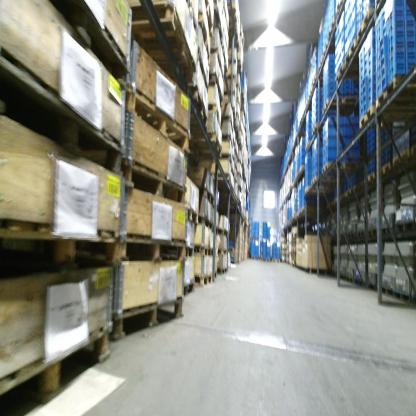pallet: (5, 50, 124, 177), (1, 323, 113, 413), (1, 216, 120, 278), (54, 2, 132, 91), (124, 4, 195, 78), (122, 81, 192, 156), (114, 294, 185, 344), (122, 157, 186, 209), (120, 234, 185, 260), (357, 101, 412, 131), (375, 73, 416, 111), (177, 80, 205, 133), (192, 10, 214, 61), (353, 8, 378, 43), (189, 133, 222, 159), (322, 159, 362, 180), (321, 94, 358, 116), (209, 69, 227, 107), (344, 41, 371, 65), (334, 62, 362, 83), (191, 181, 214, 206), (200, 104, 222, 128), (179, 279, 195, 311), (195, 53, 209, 89), (310, 174, 345, 187), (391, 150, 410, 172), (212, 170, 231, 191), (379, 222, 399, 239), (393, 216, 414, 232), (203, 1, 212, 36), (184, 204, 199, 225), (303, 186, 330, 197), (195, 218, 214, 233), (194, 274, 214, 288), (192, 245, 213, 257), (364, 170, 376, 190), (378, 163, 391, 181), (364, 228, 379, 243), (395, 290, 409, 305), (364, 278, 377, 294), (329, 18, 339, 38), (316, 57, 327, 75), (354, 227, 366, 243), (379, 284, 394, 296), (333, 231, 347, 243), (184, 245, 195, 260), (323, 41, 335, 54), (353, 276, 365, 289), (312, 121, 323, 135), (230, 105, 237, 126), (346, 184, 355, 200), (301, 207, 319, 215), (334, 194, 345, 207), (215, 268, 230, 277), (334, 271, 344, 284), (336, 0, 344, 16), (216, 223, 225, 237), (235, 137, 244, 149), (304, 139, 312, 152), (215, 247, 228, 255), (355, 183, 364, 194), (344, 276, 355, 285), (237, 59, 242, 76), (299, 165, 306, 176), (347, 231, 355, 240), (410, 297, 415, 311), (272, 258, 280, 264), (261, 257, 270, 262), (296, 211, 301, 220), (234, 128, 239, 136), (250, 257, 259, 261), (231, 186, 234, 196), (291, 247, 297, 252), (290, 251, 297, 255), (291, 243, 297, 247), (291, 240, 297, 244), (290, 257, 296, 261), (291, 236, 296, 240), (290, 254, 296, 256)
small_load_carrier: (386, 1, 404, 22), (324, 125, 344, 143), (386, 12, 404, 31), (388, 54, 405, 73), (325, 134, 342, 153), (388, 35, 405, 53), (326, 146, 343, 163), (387, 68, 406, 83), (386, 23, 403, 39), (388, 45, 403, 63), (325, 116, 343, 131), (365, 54, 376, 76), (377, 78, 391, 95), (342, 126, 361, 138), (342, 136, 359, 149), (344, 146, 359, 160), (364, 46, 377, 62), (378, 32, 387, 52), (376, 55, 386, 73), (378, 46, 389, 62), (377, 21, 386, 40), (327, 90, 342, 101), (343, 116, 359, 126), (378, 67, 388, 82), (365, 65, 375, 80), (377, 12, 385, 30), (367, 81, 376, 97), (367, 91, 377, 105), (365, 74, 374, 89), (405, 8, 415, 21), (328, 77, 342, 86), (405, 21, 416, 32), (359, 94, 366, 111), (367, 97, 376, 110), (359, 84, 367, 98), (359, 76, 366, 92), (405, 43, 415, 54), (406, 53, 415, 65), (358, 105, 367, 117), (326, 71, 336, 81), (327, 84, 338, 93), (406, 32, 414, 44), (326, 64, 334, 76), (359, 70, 366, 82), (359, 60, 365, 74), (358, 55, 367, 64), (321, 134, 326, 148), (322, 143, 326, 157), (322, 154, 326, 167), (322, 123, 325, 134)
